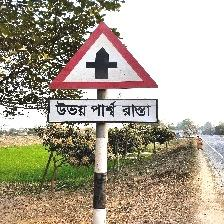Crossroad: (48, 15, 163, 133)
